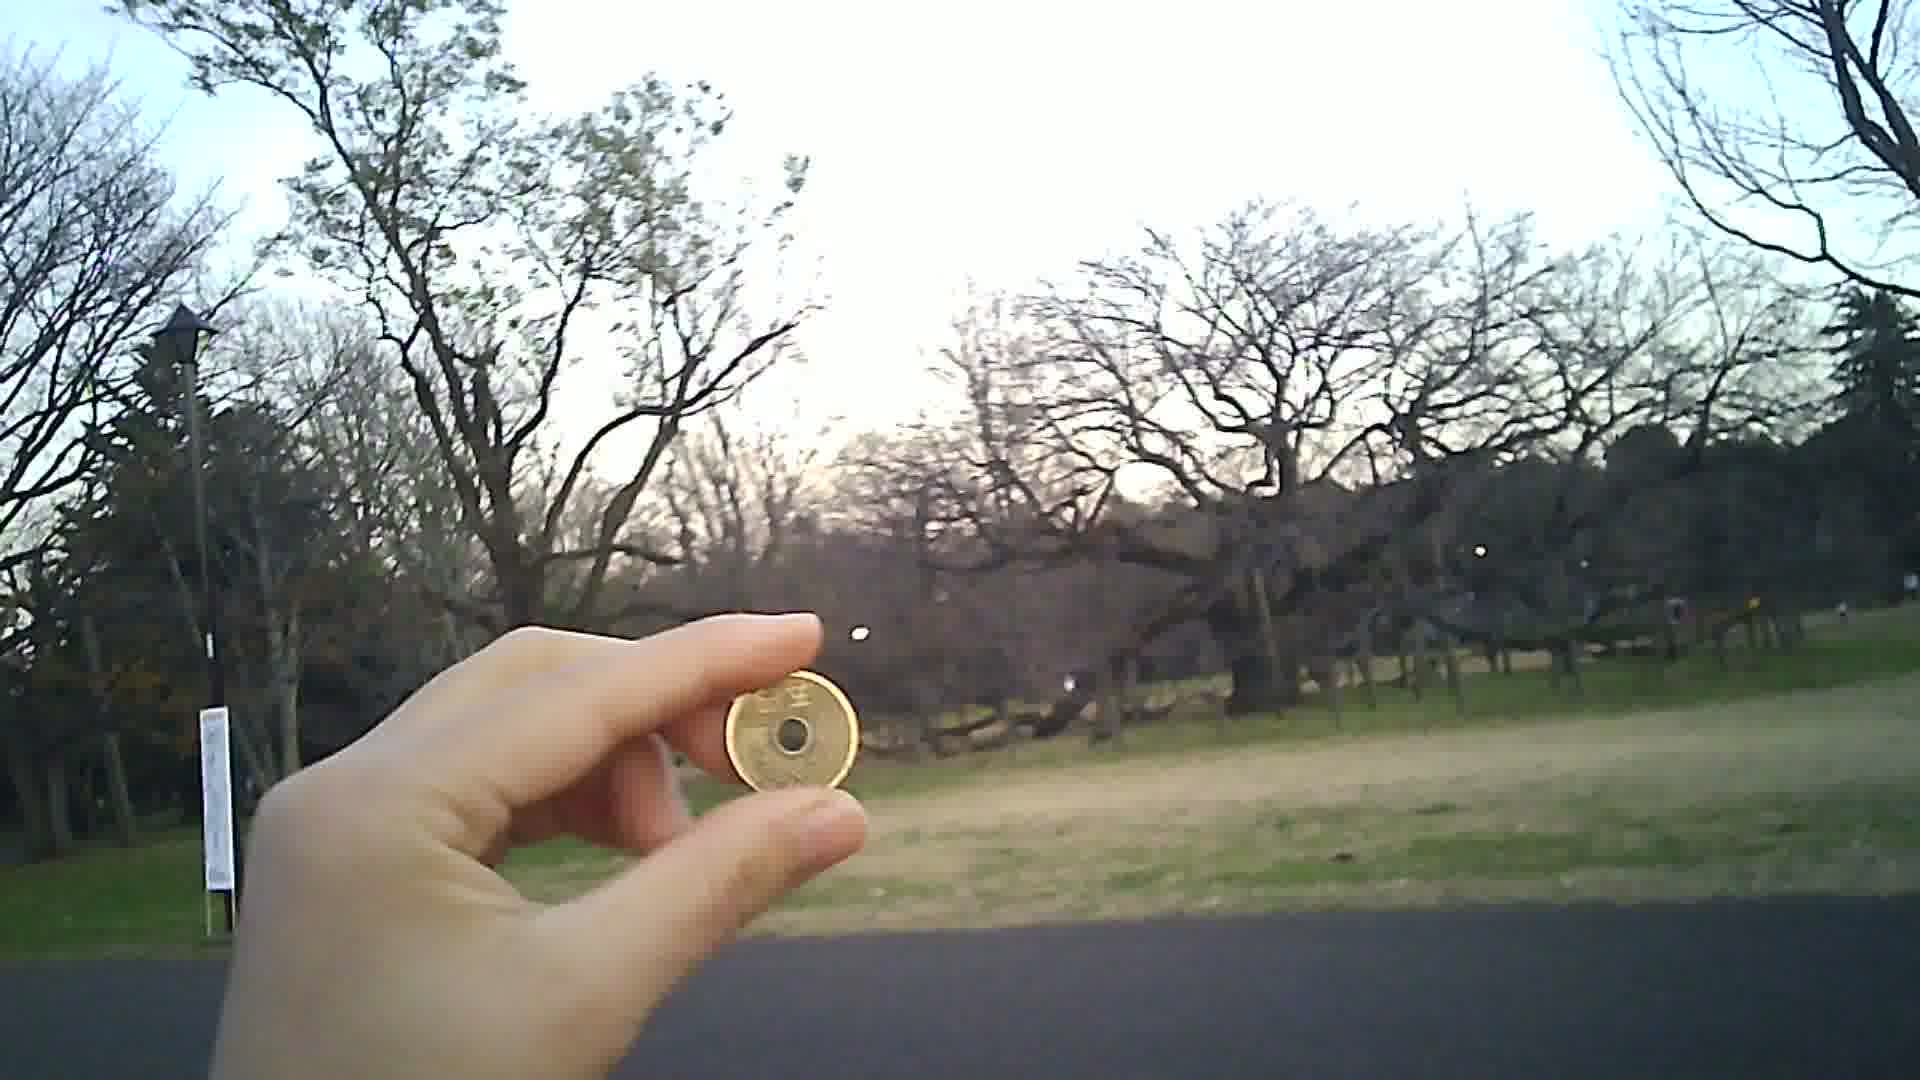5 Yen: (723, 669, 856, 799)
